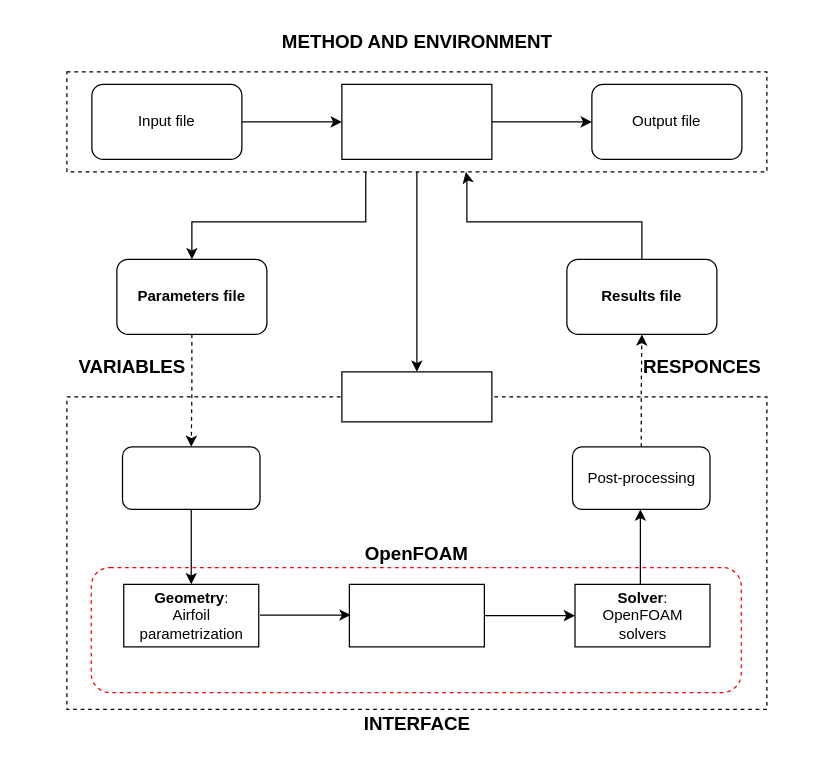
Some shapes in this 833 by 763 pixel diagram are drawn without their labels. Here are the shapes that lost their labels. From the top down, the centre of each, then its label:
[416,121]: DAKOTA optimization
[416,396]: Analysis driver
[190,477]: Pre-processing
[416,615]: Mesh : Automatic generation
